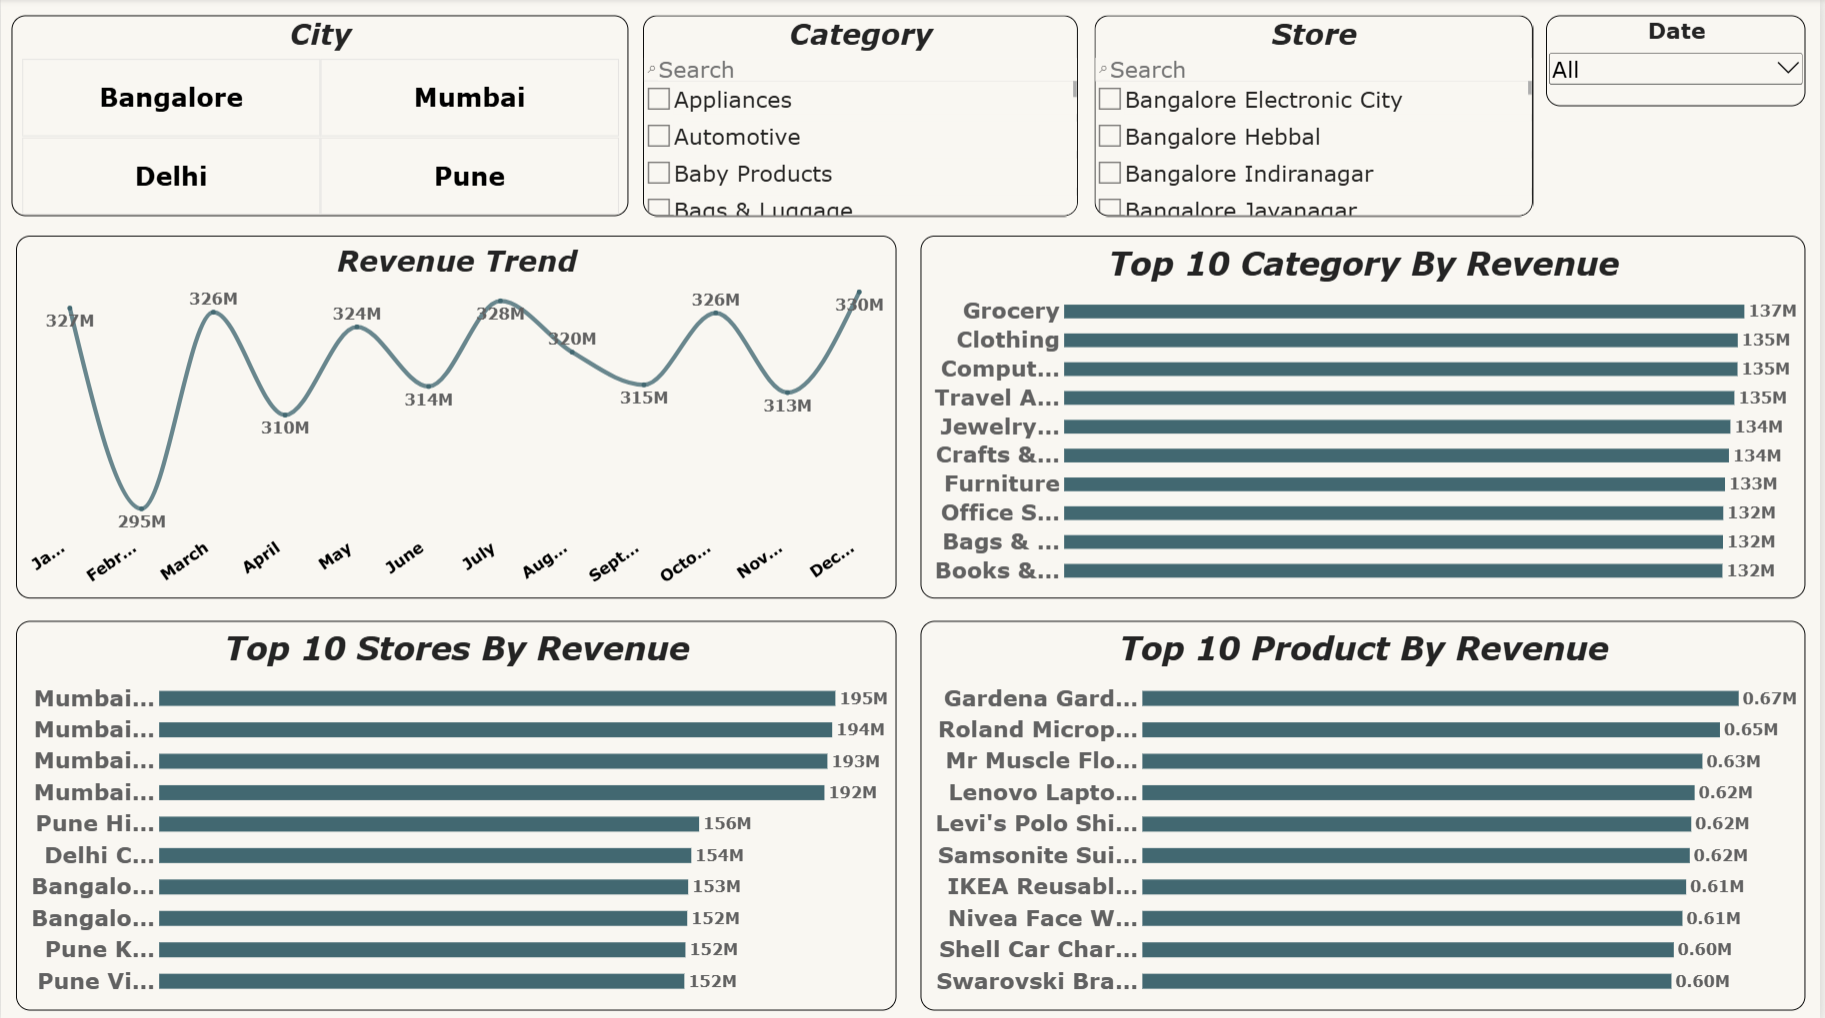

Layout of this report page (visuals, bound fields, positions):
{"tool":"powerbi","page":{"name":"Sales And Revenue","canvas":[3840,2160],"ordinal":1},"visuals":[{"type":"lineChart","title":"Revenue Trend","fields":{"Category":["DateTable.Date.Variation.Date Hierarchy.Year","DateTable.Date.Variation.Date Hierarchy.Quarter","DateTable.Date.Variation.Date Hierarchy.Month","DateTable.Date.Variation.Date Hierarchy.Day"],"Y":["Measures_Table.Total Revenue"]},"box":[31.6,499.9,1857.3,765.7],"z":0},{"type":"clusteredBarChart","title":"Top 10 Category By Revenue","fields":{"Category":["public categories.category_name"],"Y":["Measures_Table.Total Revenue"]},"box":[1939.6,499.9,1866.8,765.7],"z":1000},{"type":"clusteredBarChart","title":"Top 10 Stores By Revenue ","fields":{"Category":["public stores.store_name"],"Y":["Measures_Table.Total Revenue"]},"box":[31.6,1313.1,1857.3,822.7],"z":2000},{"type":"clusteredBarChart","title":"Top 10 Product By Revenue","fields":{"Category":["public products.product_name"],"Y":["Measures_Table.Total Revenue"]},"box":[1939.6,1313.1,1866.8,822.7],"z":3000},{"type":"slicer","title":"Category","fields":{"Values":["public categories.category_name"]},"box":[1355.7,36.2,917.1,424.1],"z":4000},{"type":"slicer","title":"Store","fields":{"Values":["public stores.store_name"]},"box":[2305.5,36.2,924.4,424.1],"z":5000},{"type":"slicer","title":"Date","fields":{"Values":["DateTable.Year Month"]},"box":[3258.8,36.2,547.4,192.1],"z":6000},{"type":"slicer","title":"City","fields":{"Values":["public stores.city"]},"box":[21.7,36.2,1301.4,424.1],"z":7000}]}

Visuals, with their boxes in screenshot pixels (x1, y1, x2, y2), scaled from the page's 3840x2160 canvas onto the 1825x1018 screenshot:
"Revenue Trend" lineChart: <box>15,236,898,596</box>
"Top 10 Category By Revenue" clusteredBarChart: <box>922,236,1809,596</box>
"Top 10 Stores By Revenue " clusteredBarChart: <box>15,619,898,1007</box>
"Top 10 Product By Revenue" clusteredBarChart: <box>922,619,1809,1007</box>
"Category" slicer: <box>644,17,1080,217</box>
"Store" slicer: <box>1096,17,1535,217</box>
"Date" slicer: <box>1549,17,1809,108</box>
"City" slicer: <box>10,17,629,217</box>
